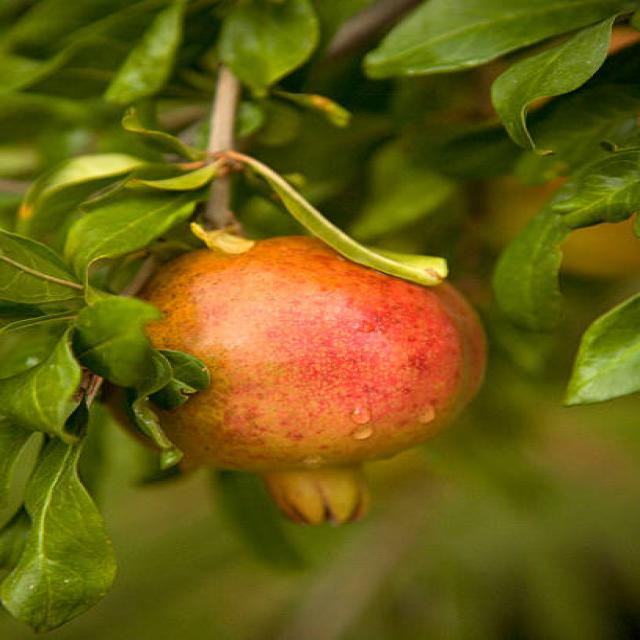Pomegranate: (92, 237, 494, 526)
